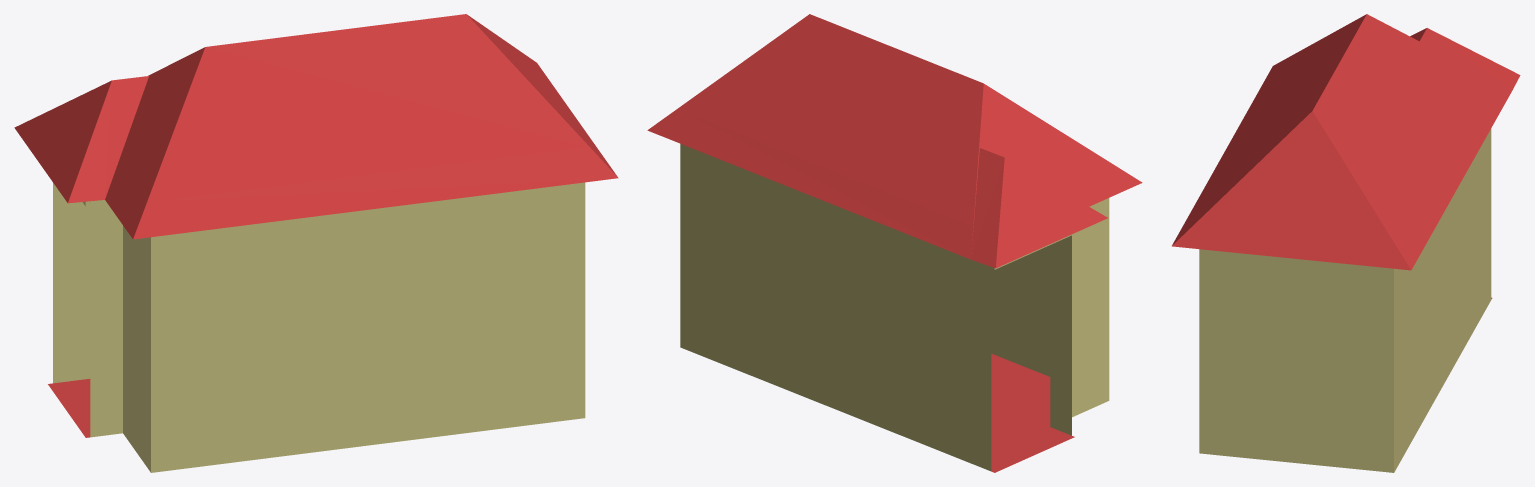
The picture shows the model from 3 angles, left to right: view 1: azimuth 30°, elevation 25°; view 2: azimuth 150°, elevation 25°; view 3: azimuth 270°, elevation 25°; orthographic projection. The views are drawn at different scales.
Visible parts, largest first — view 1: group_5, group_3, group_7, group_4, group_10, group_9, group_6, group_11; view 2: group_5, group_3, group_7, group_4, group_6, group_10, group_9, group_11; view 3: group_5, group_3, group_4, group_7.
Boxes of the visible parts, left/top/right/bottom form: group_5: left=59, top=182, right=585, bottom=472; group_3: left=118, top=14, right=618, bottom=239; group_7: left=14, top=76, right=148, bottom=203; group_4: left=105, top=57, right=615, bottom=239; group_10: left=53, top=183, right=97, bottom=437; group_9: left=15, top=112, right=116, bottom=202; group_6: left=59, top=378, right=90, bottom=425; group_11: left=48, top=382, right=90, bottom=437; group_5: left=680, top=144, right=1109, bottom=469; group_3: left=647, top=14, right=1105, bottom=259; group_7: left=971, top=148, right=1107, bottom=268; group_4: left=652, top=111, right=1142, bottom=258; group_6: left=991, top=353, right=1066, bottom=467; group_10: left=987, top=233, right=1075, bottom=471; group_9: left=972, top=199, right=1105, bottom=267; group_11: left=991, top=434, right=1074, bottom=472; group_5: left=1199, top=130, right=1490, bottom=472; group_3: left=1172, top=14, right=1512, bottom=270; group_4: left=1174, top=54, right=1511, bottom=269; group_7: left=1410, top=28, right=1520, bottom=89.
Size of the model in its own units: 21.41 by 15.03 by 15.2.
